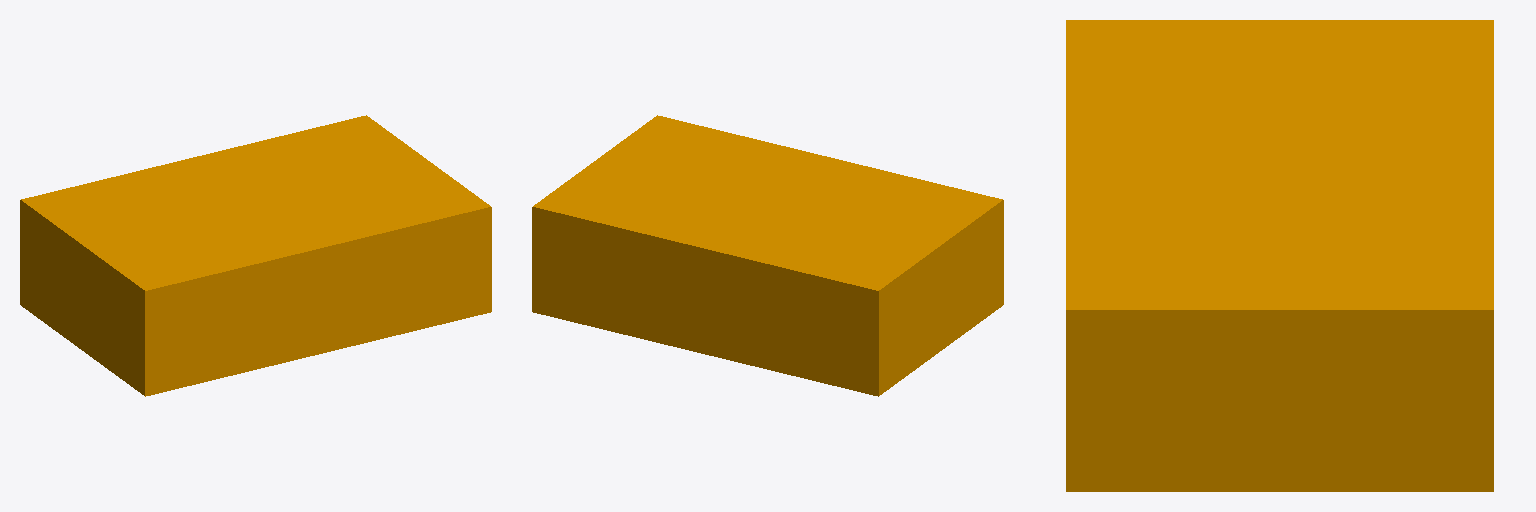
The robot description file, URDF, robot "sponge":
<?xml version='1.0' encoding='utf-8'?>
<robot name="sponge">
  <link name="body">
    <inertial>
      <origin xyz="0.0 0.0 0.0" />
      <mass value="0.03" />
      <inertia ixx="1.7125000000000003e-05" iyy="3.9062499999999994e-05" izz="5.00625e-05" ixy="0.0" ixz="0.0" iyz="0.0" />
    </inertial>
    <collision>
      <geometry>
        <mesh filename="part_00.obj" />
      </geometry>
    </collision>
    <visual>
      <geometry>
        <mesh filename="visual.obj" />
      </geometry>
    </visual>
  </link>
</robot>

--- Facts derived from the render (not from the file) ---
The picture shows the robot from 3 angles, left to right: view 1: azimuth 30°, elevation 25°; view 2: azimuth 150°, elevation 25°; view 3: azimuth 270°, elevation 25°; orthographic projection.
Model sponge with 1 links and 0 joints (none), rooted at body, posed all joints at 0.
Links seen in each view (by area): view 1: body; view 2: body; view 3: body.
Boxes of the visible links, x1,y1,x2,y2 form: body: (20, 115, 491, 396); body: (532, 115, 1003, 396); body: (1066, 20, 1493, 491).
Size in the robot's own frame: 0.12 by 0.075 by 0.035 metres.
1 mesh visuals loaded from 1 distinct referenced files (1 OBJ).
